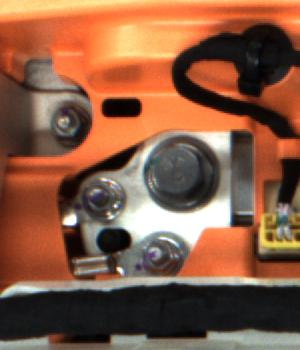nut_b: (141, 135, 227, 218)
